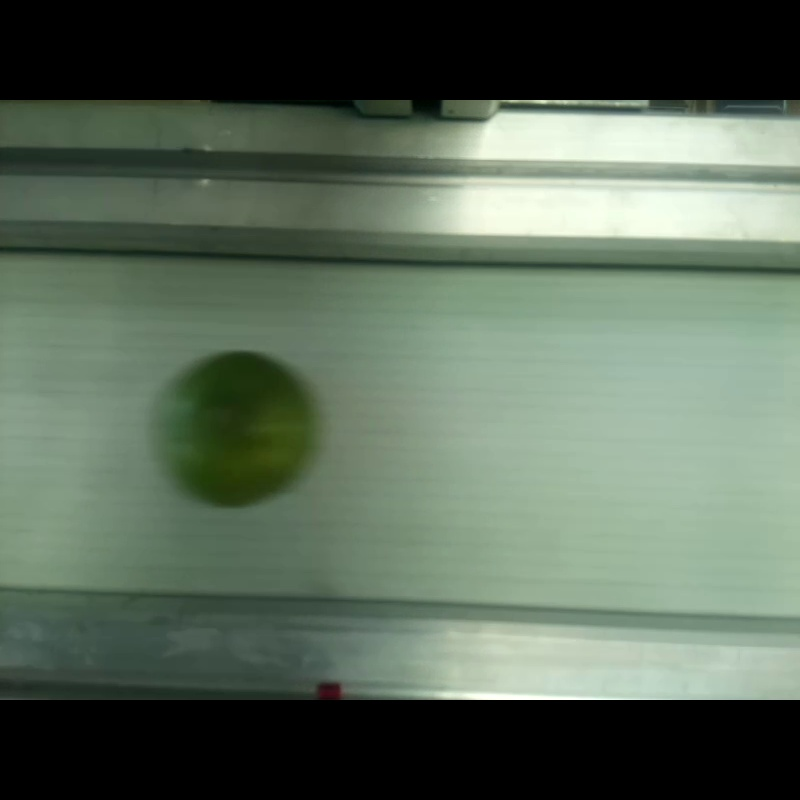lime: (157, 352, 314, 508)
